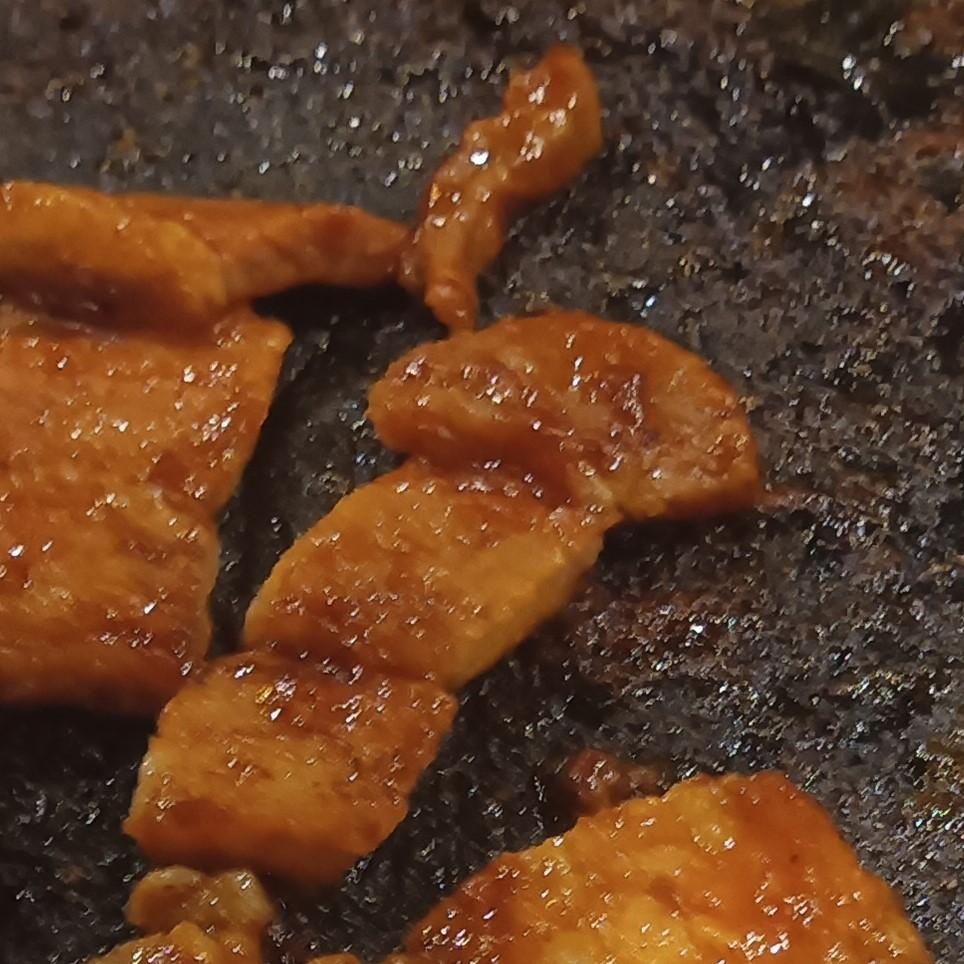Well-Cooked: (127, 311, 765, 963), (0, 307, 290, 724), (383, 774, 935, 963), (0, 181, 410, 342), (395, 44, 606, 335)
